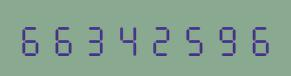five: (177, 20, 208, 56)
four: (113, 20, 144, 56)
nine: (209, 20, 240, 56)
six: (17, 20, 48, 56), (49, 20, 80, 56), (241, 20, 272, 56)
three: (81, 20, 112, 56)
two: (145, 20, 176, 56)
